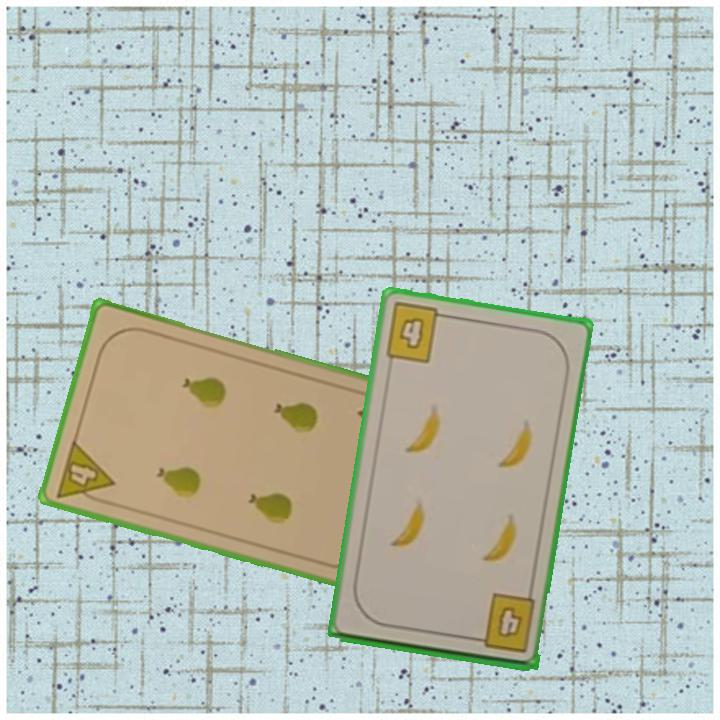4b: (381, 299, 452, 366), (468, 590, 538, 656)
4p: (53, 436, 117, 509)
